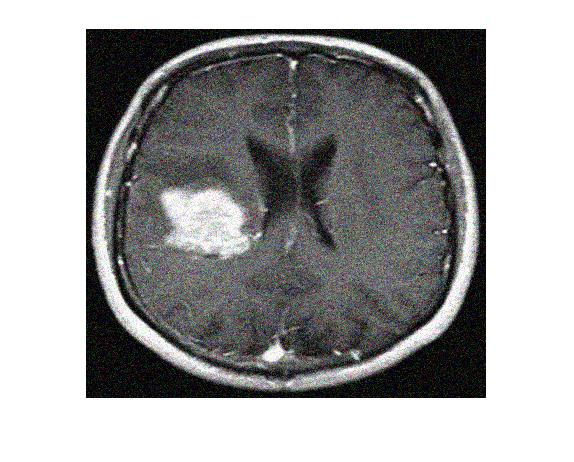Brain_Cancer: (159, 188, 250, 259)
